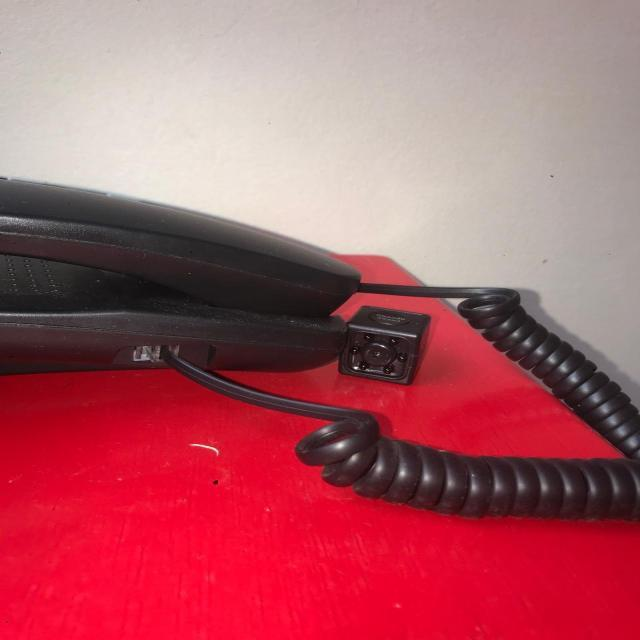hidden camera: (364, 346, 391, 366)
